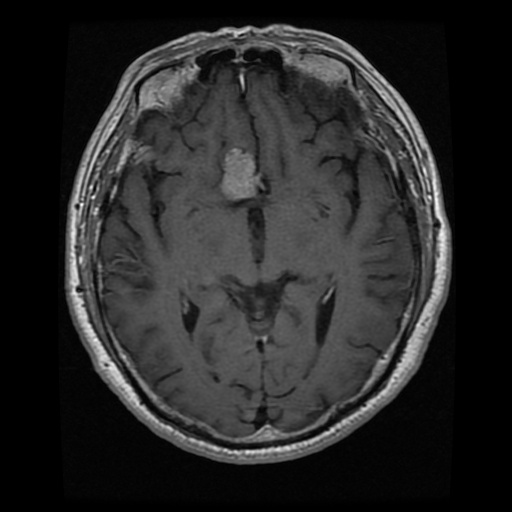pituitary: (223, 147, 257, 200)
